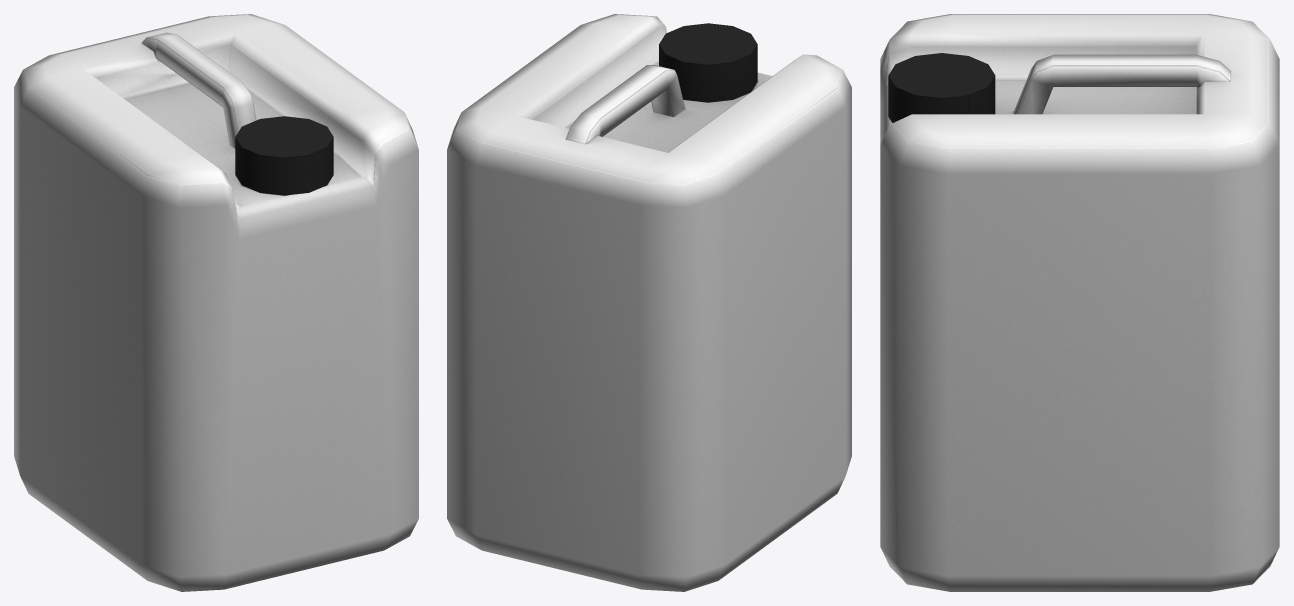
Rendered from jerrycanWhite_L.fbx.
3 views of the same model, side by side, from view 1: azimuth 30°, elevation 25°; view 2: azimuth 150°, elevation 25°; view 3: azimuth 270°, elevation 25° (orthographic). The views are drawn at different scales.
Visible parts, largest first — view 1: jerrycanWhite_L; view 2: jerrycanWhite_L; view 3: jerrycanWhite_L.
Boxes of the visible parts, bbox=[...] form: jerrycanWhite_L: bbox=[14, 14, 418, 591]; jerrycanWhite_L: bbox=[447, 14, 851, 591]; jerrycanWhite_L: bbox=[880, 14, 1279, 591].
Bounding box in the file's own units: 0.2113 × 0.3244 × 0.2474.
